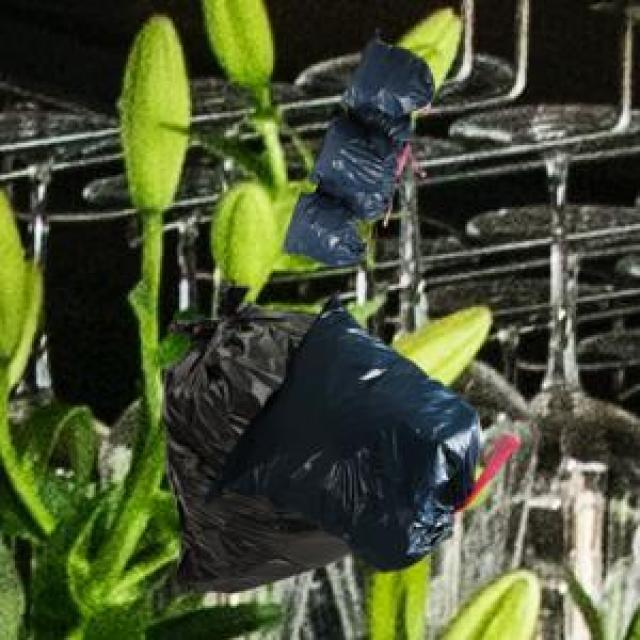waste: (170, 299, 476, 588), (286, 41, 432, 262)
